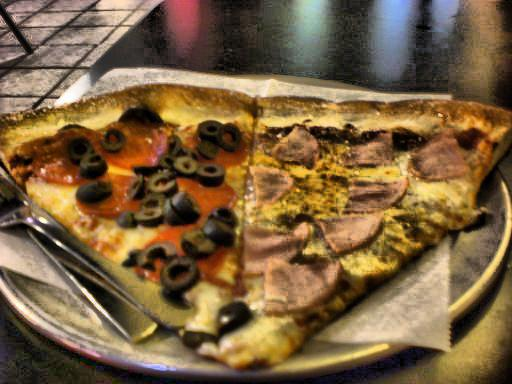pizza: (3, 89, 512, 338)
